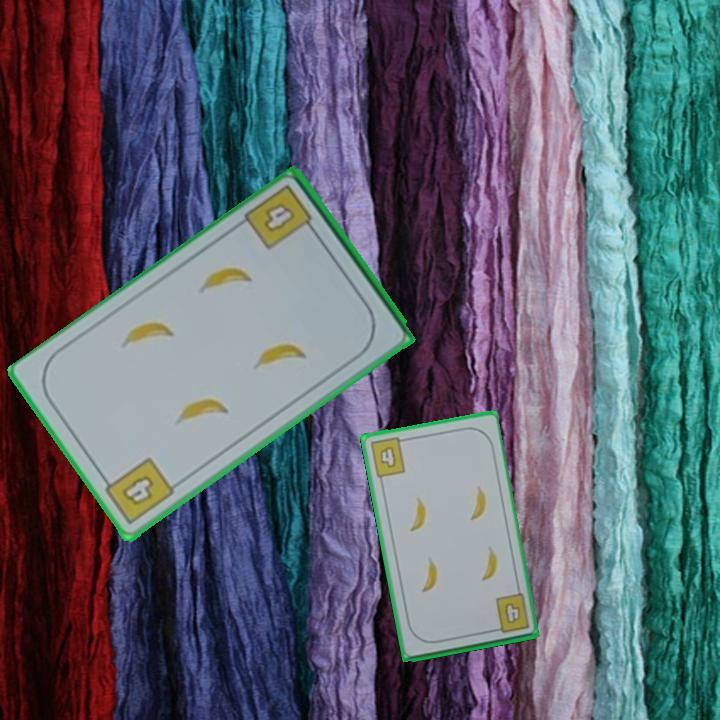4b: (98, 454, 178, 528), (241, 181, 321, 253), (366, 434, 410, 480), (488, 590, 532, 636)
